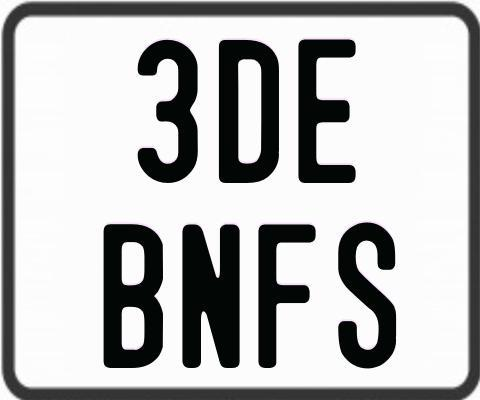3: (136, 39, 198, 186)
B: (103, 221, 166, 367)
D: (216, 38, 280, 181)
E: (295, 38, 357, 183)
F: (256, 221, 316, 366)
N: (179, 222, 243, 366)
S: (335, 220, 397, 366)
